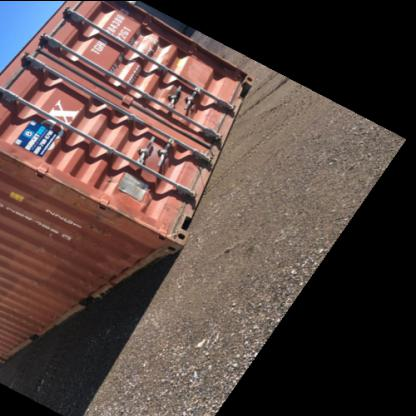Damage: (42, 176, 88, 216), (80, 218, 115, 242), (73, 289, 106, 308)
